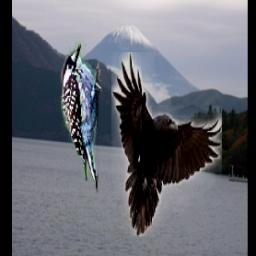Crow: (111, 52, 222, 237)
Woodpecker: (55, 35, 111, 198)
